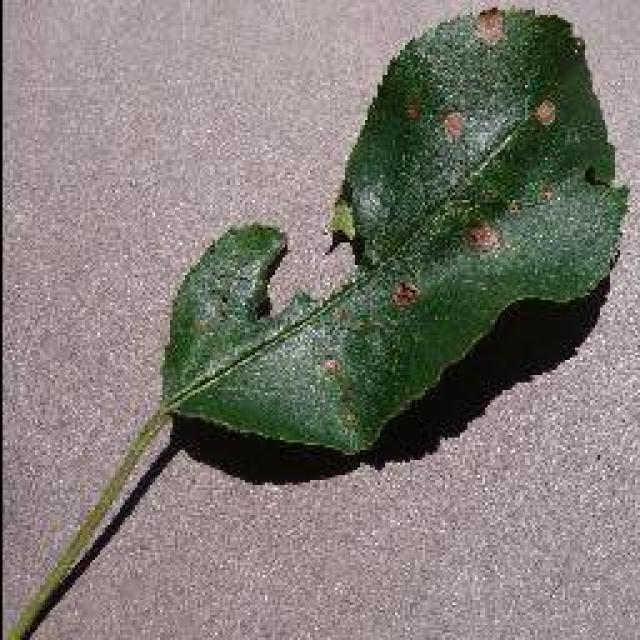Black_rot: (2, 2, 630, 638)
